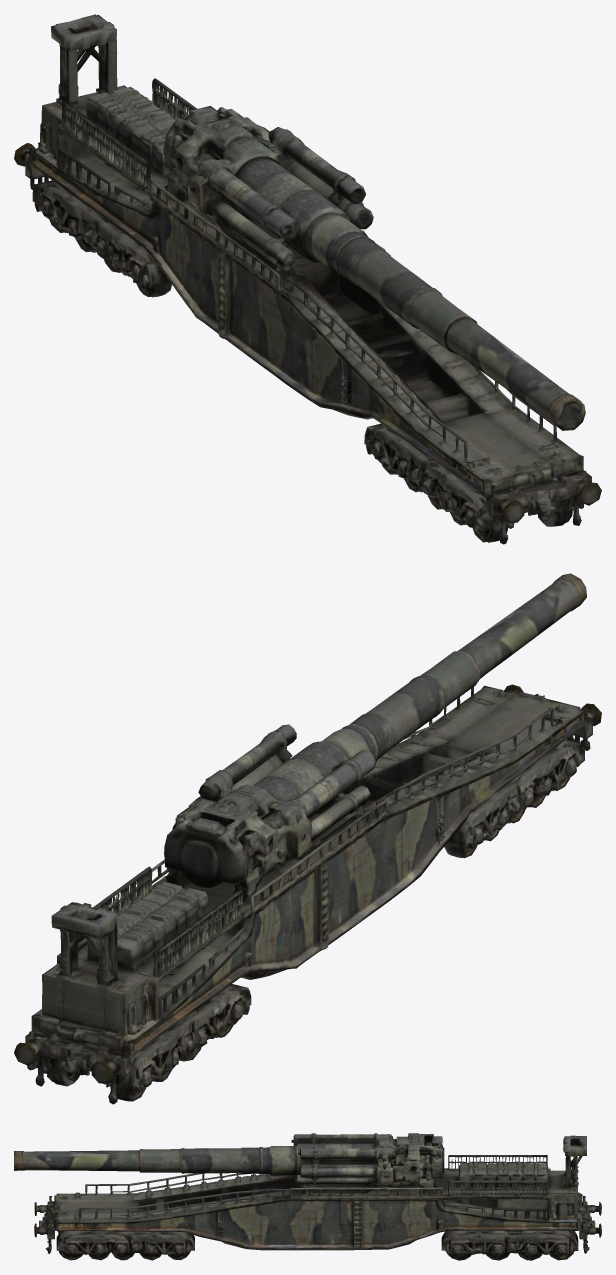
Rendered from prop_railgun.glb.
3 views of the same model, one above another, from view 1: azimuth 30°, elevation 25°; view 2: azimuth 150°, elevation 25°; view 3: azimuth 270°, elevation 25° (orthographic). The views are drawn at different scales.
Visible parts, largest first — view 1: tripo_node_891e29f8-f058-43dd-a06b-15f6e2b5adaf; view 2: tripo_node_891e29f8-f058-43dd-a06b-15f6e2b5adaf; view 3: tripo_node_891e29f8-f058-43dd-a06b-15f6e2b5adaf.
Boxes of the visible parts, left/top/right/bottom form: tripo_node_891e29f8-f058-43dd-a06b-15f6e2b5adaf: left=14, top=14, right=601, bottom=544; tripo_node_891e29f8-f058-43dd-a06b-15f6e2b5adaf: left=14, top=573, right=601, bottom=1104; tripo_node_891e29f8-f058-43dd-a06b-15f6e2b5adaf: left=14, top=1133, right=601, bottom=1260.
Bounding box in the file's own units: 0.1249 × 0.2073 × 0.981.
1 material, 1 textured.
